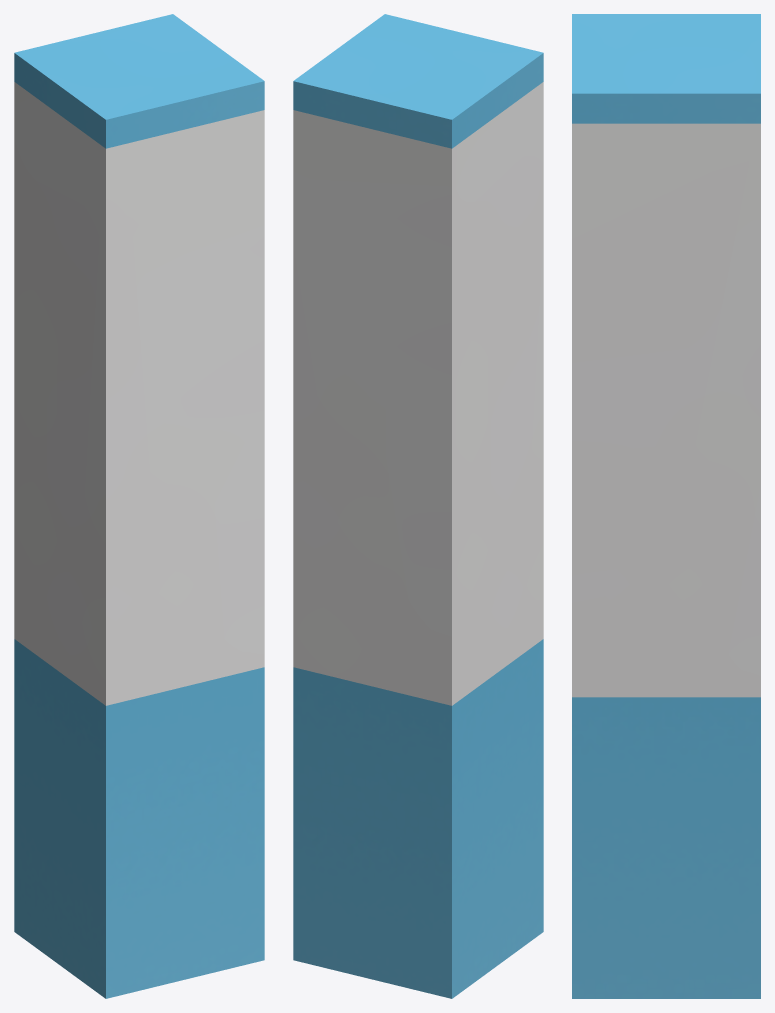
The model's file is wall_column.glb.
The picture shows the model from 3 angles, left to right: view 1: azimuth 30°, elevation 25°; view 2: azimuth 150°, elevation 25°; view 3: azimuth 270°, elevation 25°; orthographic projection. The views are drawn at different scales.
Parts seen in each view (by area): view 1: wall_column; view 2: wall_column; view 3: wall_column.
Boxes of the visible parts, box(x1,y1,x2,y2) form: wall_column: box(14, 14, 264, 998); wall_column: box(293, 14, 543, 998); wall_column: box(572, 14, 760, 998).
Bounding box in the file's own units: 0.3782 × 2 × 0.3782.
1 material, 1 textured.
